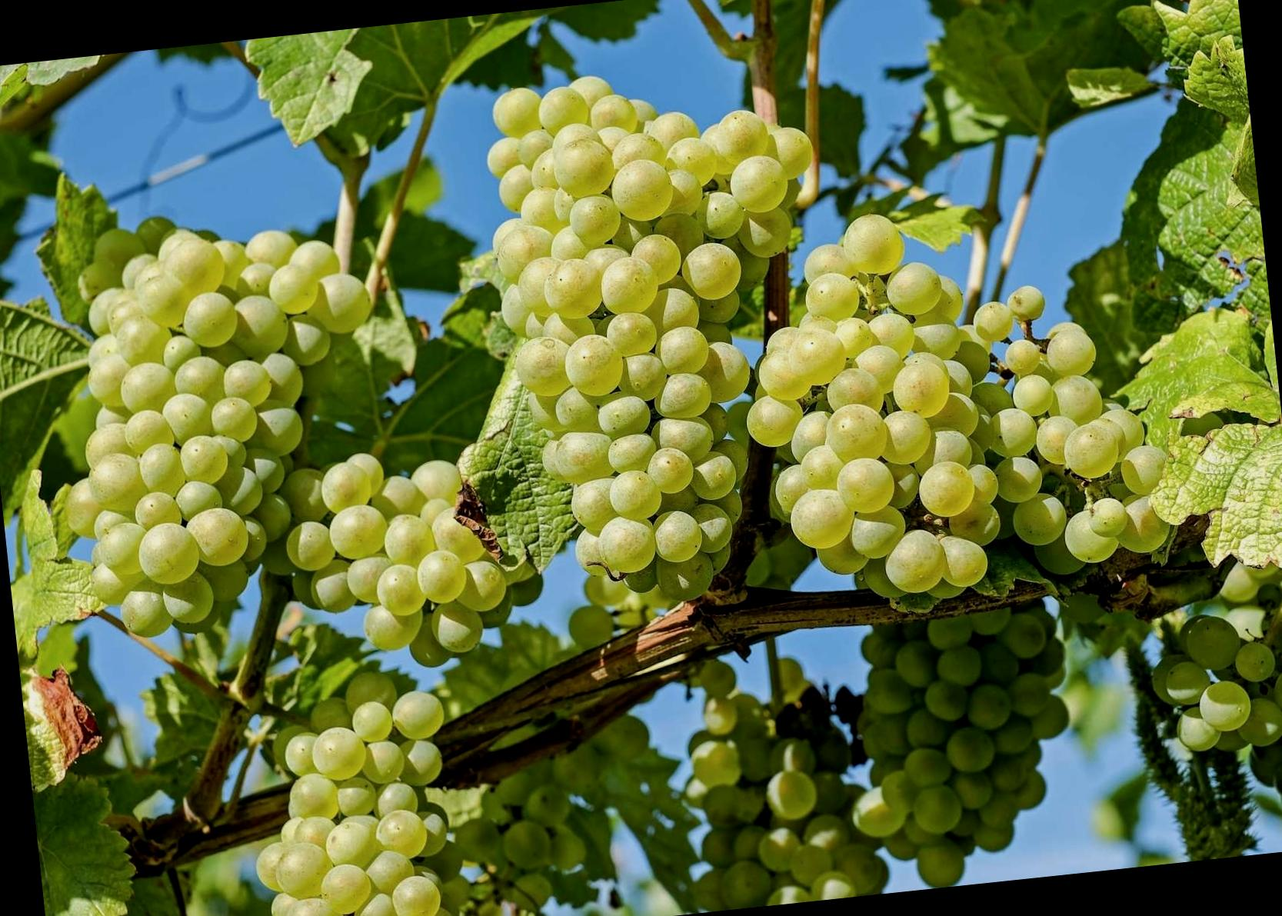Grape Unripe: (455, 54, 837, 593), (30, 185, 399, 653), (746, 215, 1020, 599), (856, 578, 1092, 893), (638, 662, 891, 916), (235, 677, 494, 916), (284, 420, 516, 672), (961, 331, 1169, 576)
